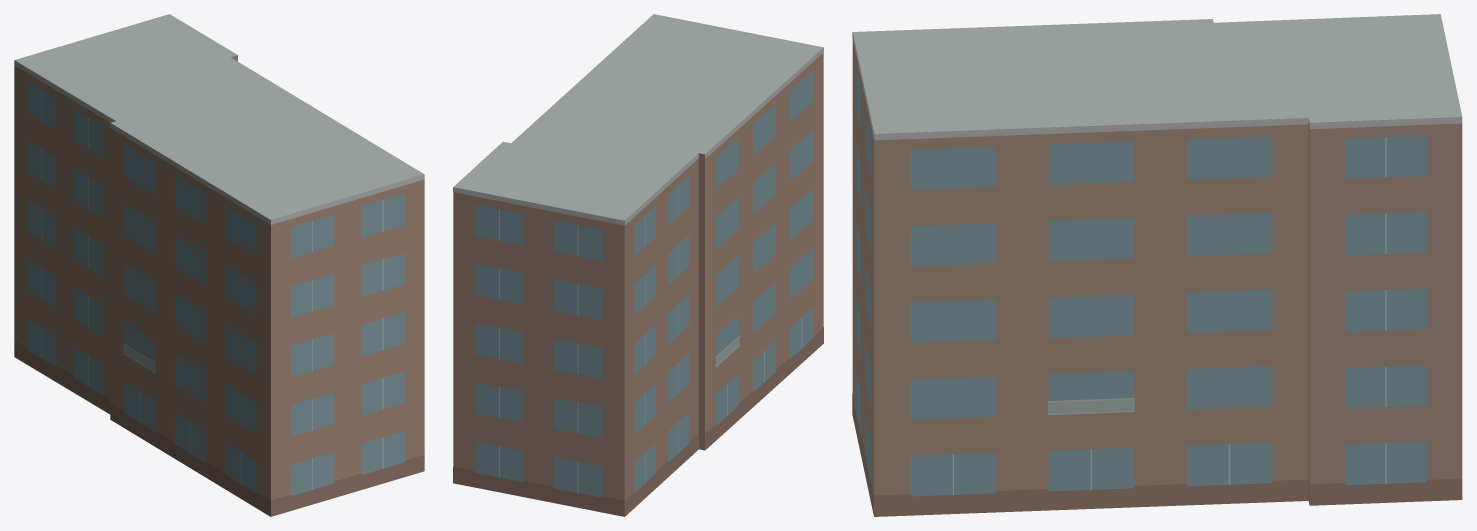
The model's file is survey-upis-32633704.glb.
3 views of the same model, side by side, from view 1: azimuth 30°, elevation 25°; view 2: azimuth 150°, elevation 25°; view 3: azimuth 270°, elevation 25° (orthographic). The views are drawn at different scales.
Parts seen in each view (by area): view 1: survey-upis-32633704.tmp; view 2: survey-upis-32633704.tmp; view 3: survey-upis-32633704.tmp.
Part boxes in pixels (x1,y1,x2,y2): survey-upis-32633704.tmp: (14, 14, 424, 516); survey-upis-32633704.tmp: (453, 14, 823, 516); survey-upis-32633704.tmp: (852, 14, 1462, 516).
Bounding box in the file's own units: 9.76 × 14.5 × 20.94.
